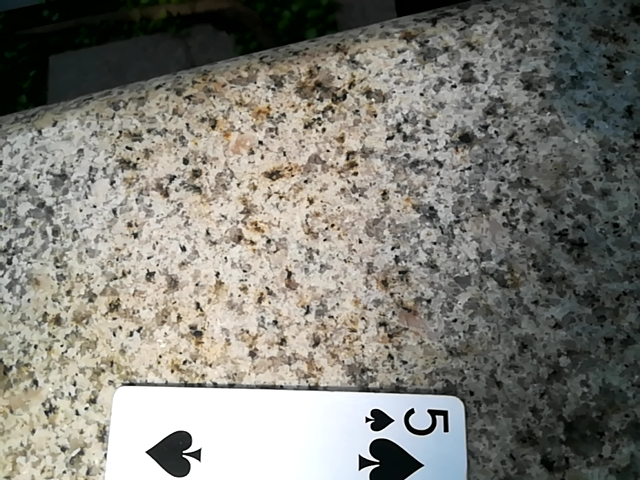ht 5: (65, 395, 475, 478)
